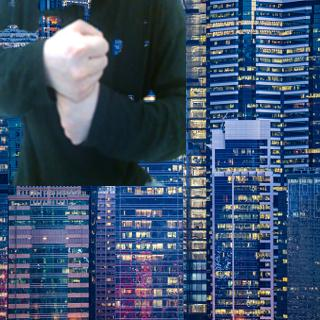CAREFUL: (41, 15, 112, 153)
